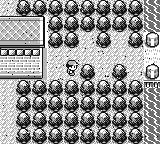captura: (144, 86, 159, 143), (144, 0, 159, 32)
main: (66, 61, 79, 75)
no-caminable: (16, 64, 144, 143), (17, 0, 144, 48), (1, 17, 45, 79), (144, 32, 159, 47), (145, 64, 159, 79)
